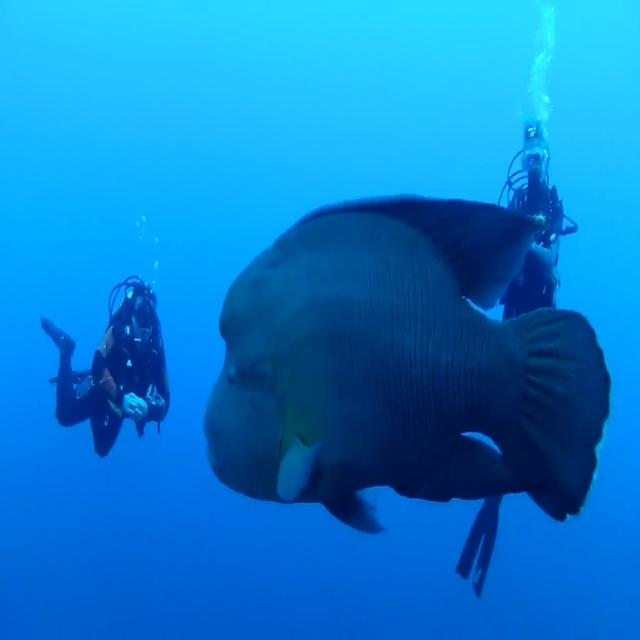Napoleon -Endangered-: (205, 196, 611, 534)
